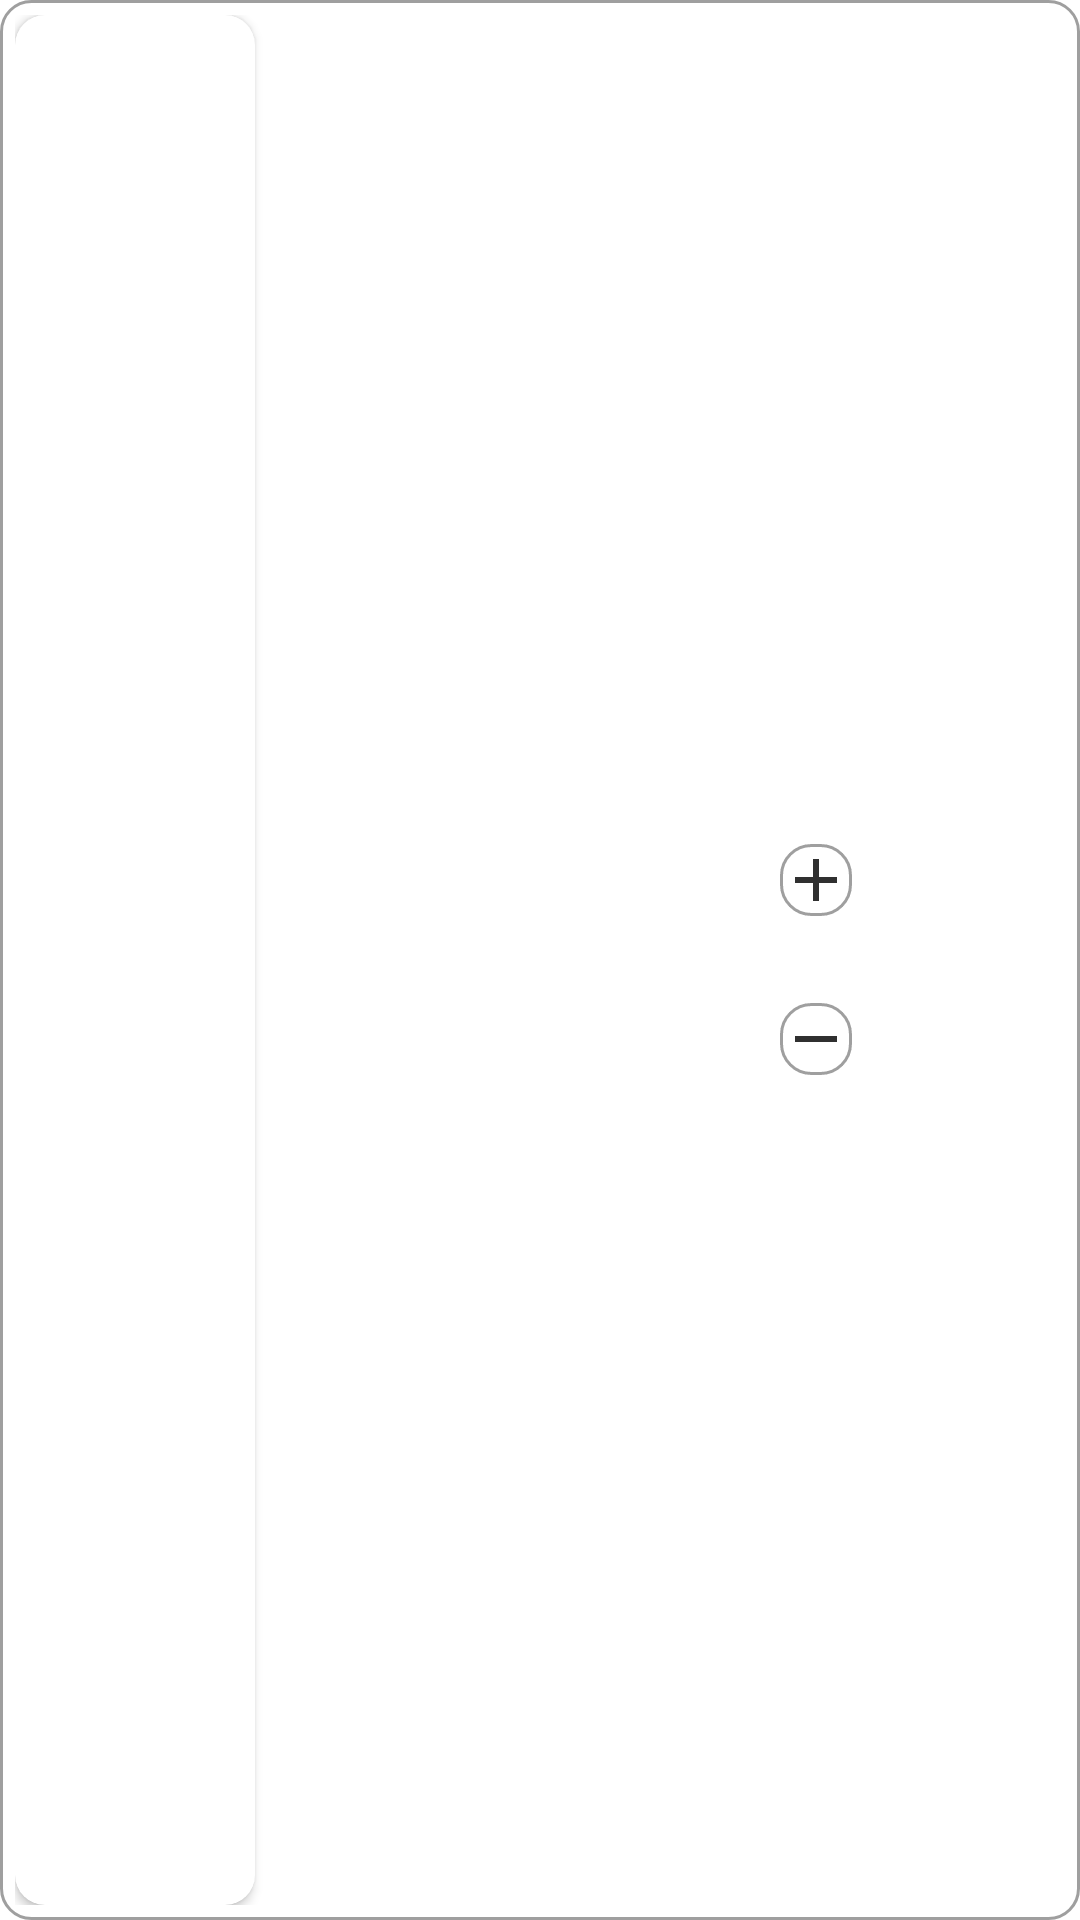

Icon bounding boxes for this 1080px x 1920px phone screenshot, format (x1, y1, x2, y2):
Add: (780, 844, 852, 916)
Remove: (780, 1003, 852, 1075)
